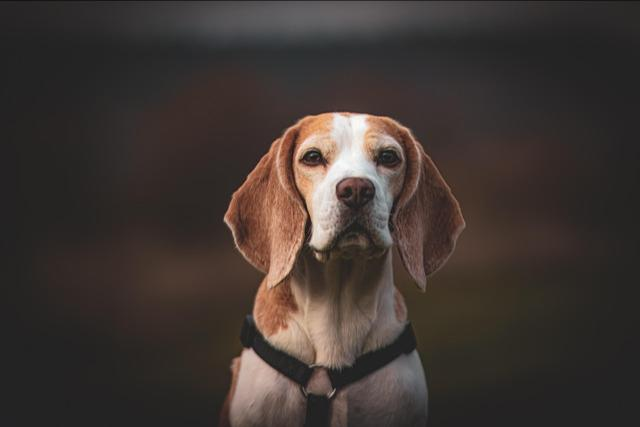Non_Gorille: (146, 25, 474, 427)
